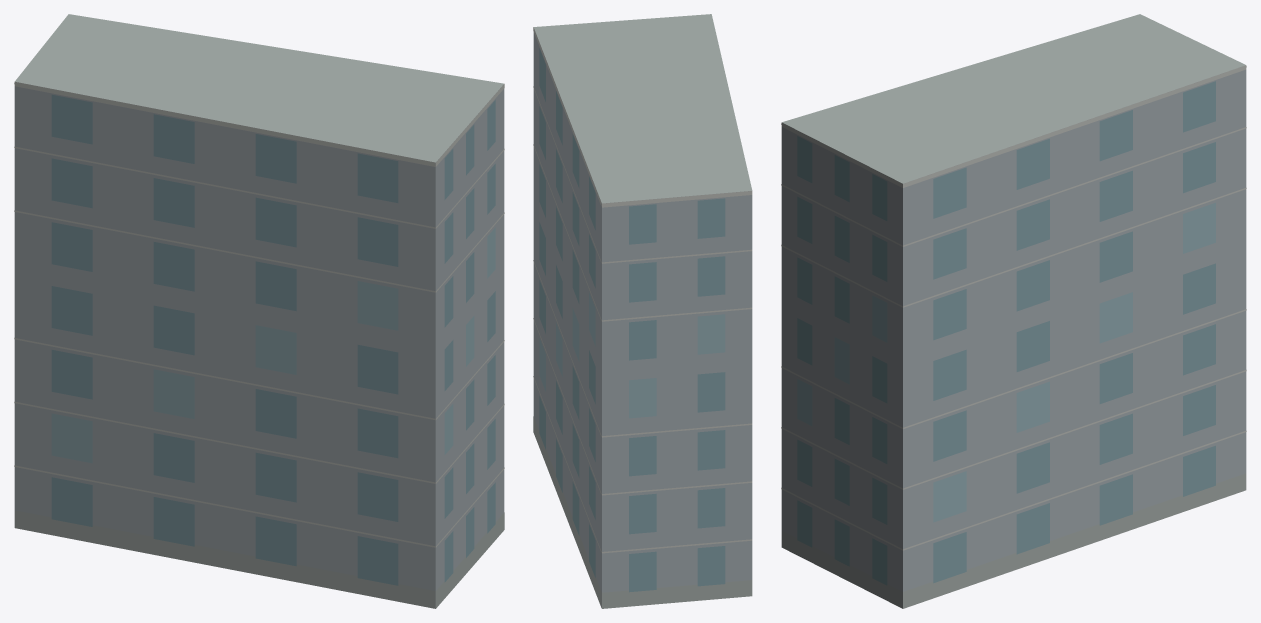
Rendered from survey-upis-32733793.glb.
3 renders of one model, left to right at view 1: azimuth 30°, elevation 25°; view 2: azimuth 150°, elevation 25°; view 3: azimuth 270°, elevation 25°, orthographic. The views are drawn at different scales.
Parts seen in each view (by area): view 1: survey-upis-32733793.tmp; view 2: survey-upis-32733793.tmp; view 3: survey-upis-32733793.tmp.
Part boxes in pixels (x1,y1,x2,y2): survey-upis-32733793.tmp: [14, 14, 504, 608]; survey-upis-32733793.tmp: [533, 14, 752, 608]; survey-upis-32733793.tmp: [781, 14, 1246, 608].
Bounding box in the file's own units: 20.32 × 23.7 × 23.5.
